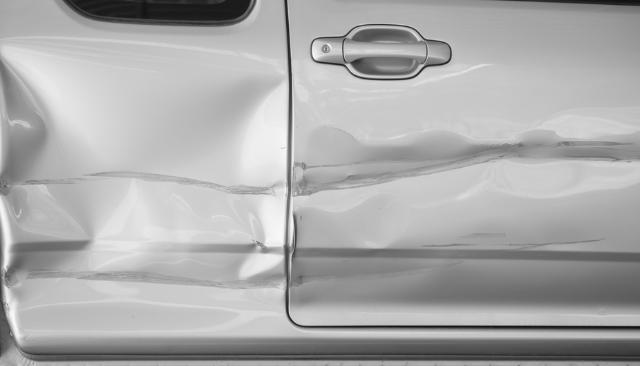Door: (293, 69, 639, 323)
Fender: (1, 50, 281, 318)
